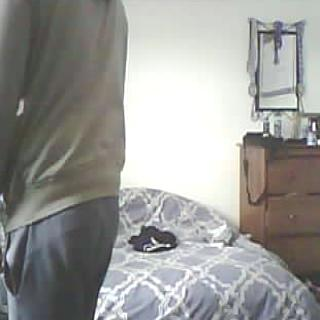Blue Sweatpants: (0, 200, 124, 320)
Yellow Hoodie: (0, 0, 130, 207)
